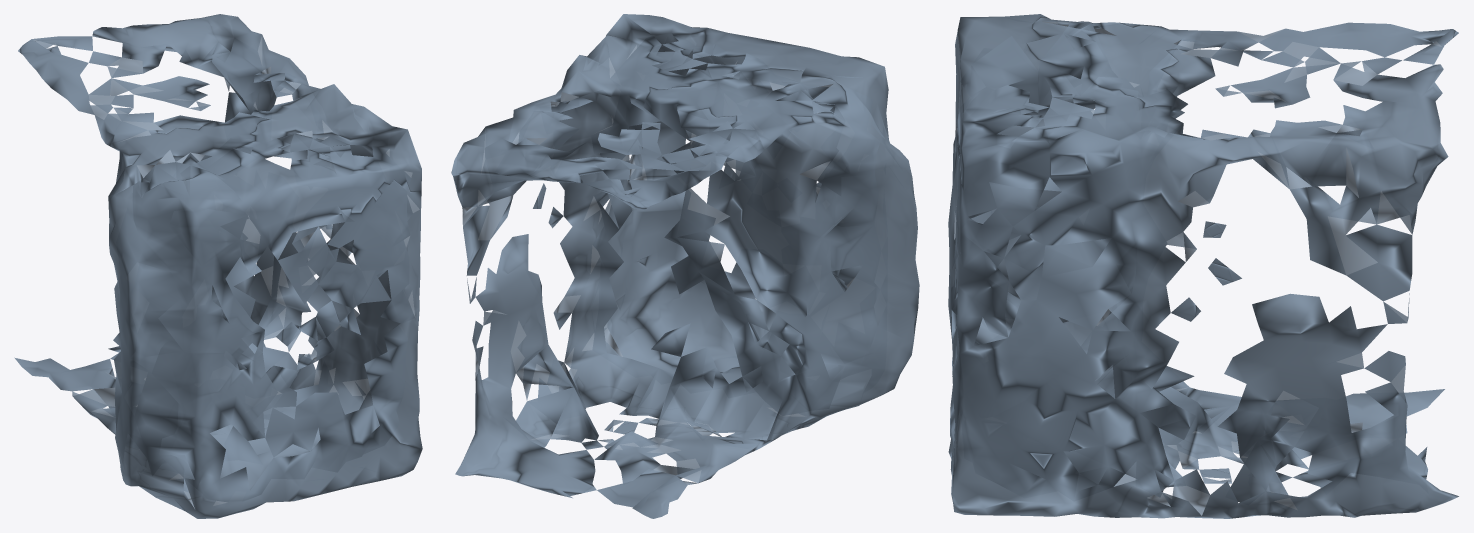
The model's file is sample_634_recon.obj.
3 views of the same model, side by side, from view 1: azimuth 30°, elevation 25°; view 2: azimuth 150°, elevation 25°; view 3: azimuth 270°, elevation 25° (orthographic). The views are drawn at different scales.
Bounding box in the file's own units: 0.9704 × 1.09 × 1.27.
